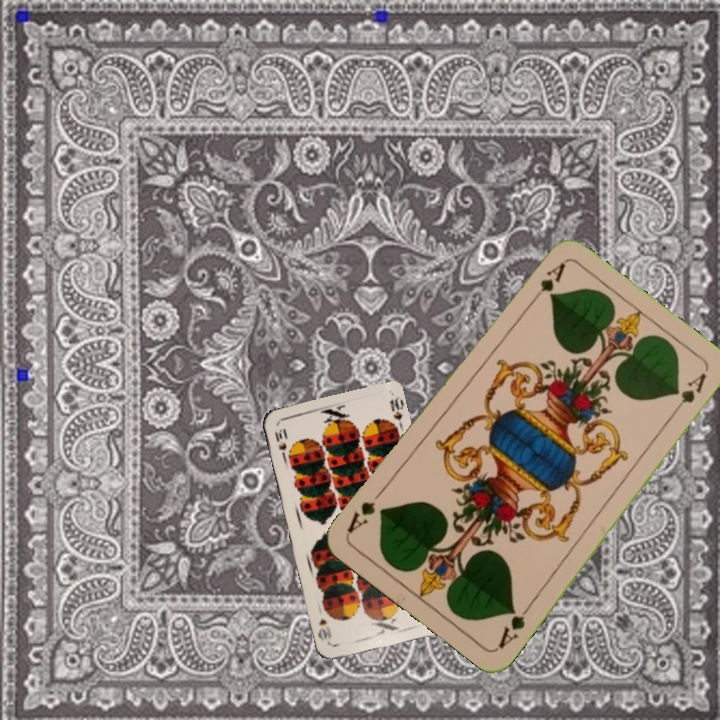GA: (525, 259, 568, 309), (494, 599, 534, 651)
S10: (271, 424, 289, 462)
